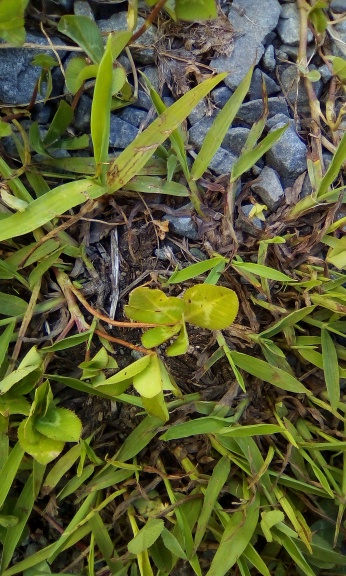4leaf: (122, 283, 239, 357)
